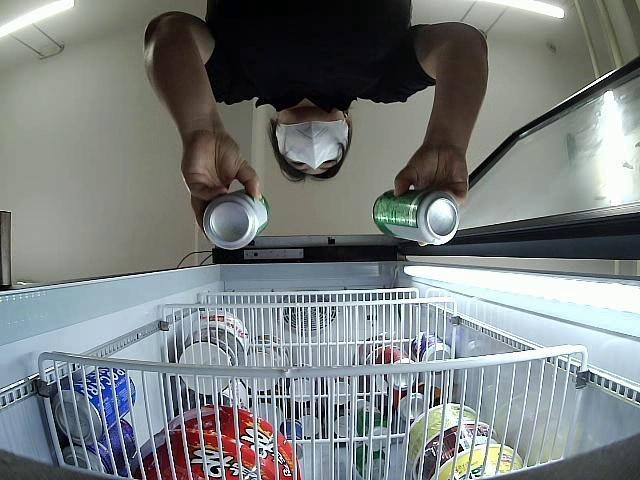12_chilsungCider: (373, 192, 458, 245), (203, 188, 268, 250)
